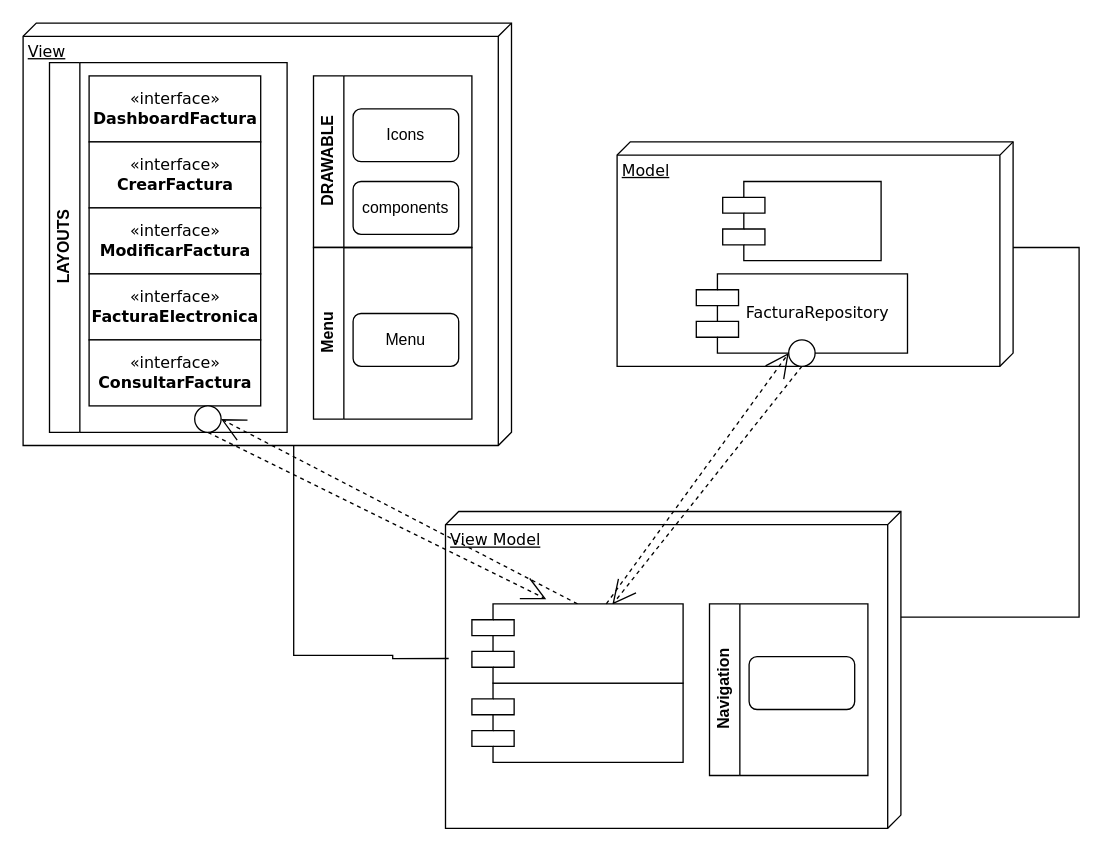
The diagram is 1104 pixels wide and 851 high, and some of its shapes have lost their labels. The centre of each missing label's shape, as x and y in pixels:
"Factura" belongs at point (801, 220).
"FacturaAdapters" belongs at point (577, 722).
"FacturaViewModel" belongs at point (577, 643).
"Nav_graph" belongs at point (801, 682).
